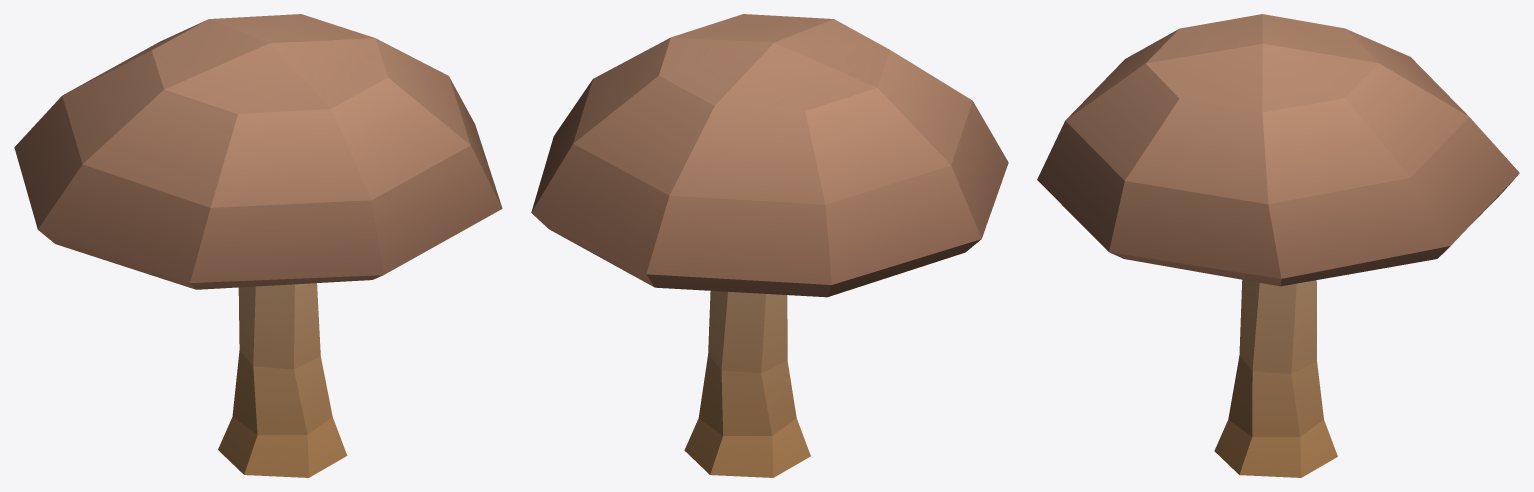
File: grzyb1.fbx
3 renders of one model, left to right at view 1: azimuth 30°, elevation 25°; view 2: azimuth 150°, elevation 25°; view 3: azimuth 270°, elevation 25°, orthographic. The views are drawn at different scales.
Parts seen in each view (by area): view 1: grzyb1, Circle; view 2: grzyb1, Circle; view 3: grzyb1, Circle.
Part boxes in pixels (bbox=[...]): grzyb1: bbox=[14, 14, 502, 289]; Circle: bbox=[218, 283, 347, 477]; grzyb1: bbox=[531, 14, 1008, 297]; Circle: bbox=[684, 291, 810, 477]; grzyb1: bbox=[1037, 14, 1519, 286]; Circle: bbox=[1214, 279, 1337, 477].
Size of the model in its own units: 744 by 682 by 744.
